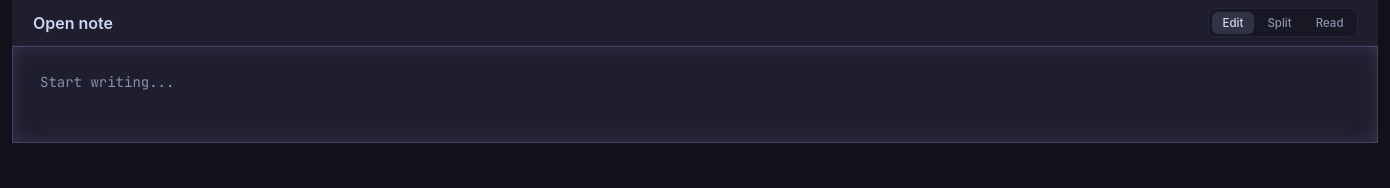
Test: Link autocomplete (#548) › inserts on Tab too, setting the text when the browser cannot insert it
This screenshot has width=1390, height=188.
Type "[ [gro" into the text box with class "editor-textarea" at x=695, y=94, box [12,46,1378,143]
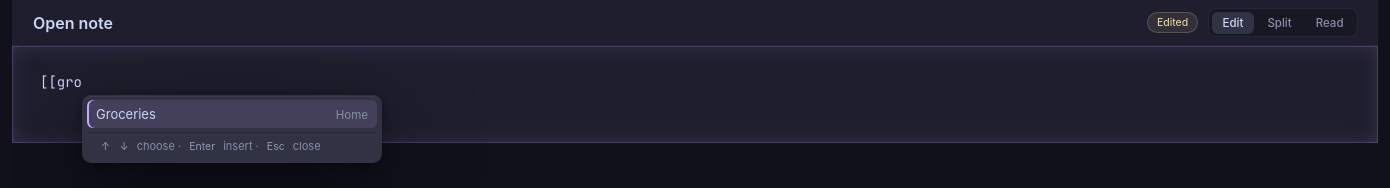
Press Tab in the text box with class "editor-textarea", box [12,46,1378,143]
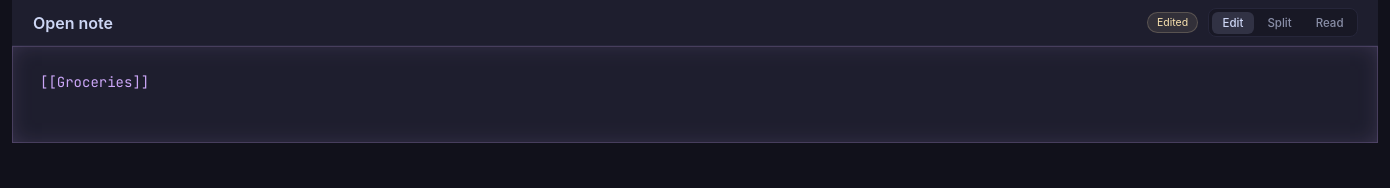
Now the text box with class "editor-textarea" holds "[ [Groceries]]", box [12,46,1378,143]
Now the list is gone
